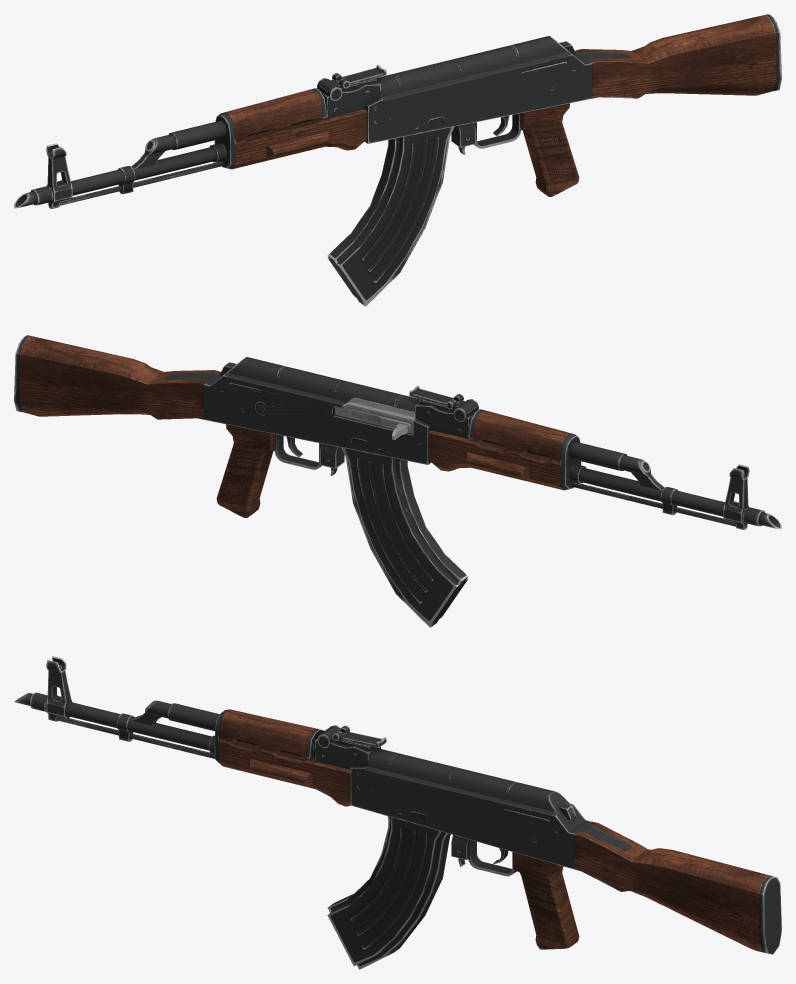
File: GUN  .fbx
3 views of the same model, one above another, from view 1: azimuth 30°, elevation 25°; view 2: azimuth 150°, elevation 25°; view 3: azimuth 330°, elevation 25° (orthographic).
Parts seen in each view (by area): view 1: gun; view 2: gun; view 3: gun.
Part boxes in pixels (bbox=[...]): gun: bbox=[14, 14, 781, 306]; gun: bbox=[14, 335, 781, 627]; gun: bbox=[14, 656, 781, 969].
Bounding box in the file's own units: 122 × 35.74 × 9.25.
Materials: 1 (1 with a texture image).
